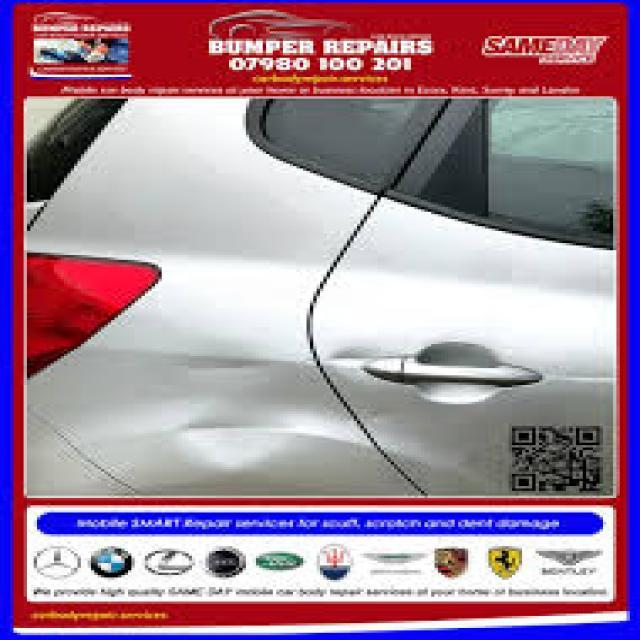dent-or-scratch: (150, 329, 326, 476)
